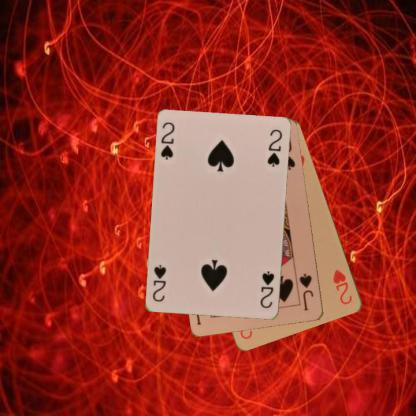2h: (329, 266, 354, 307)
2s: (258, 268, 276, 310), (158, 120, 176, 161)
Js: (297, 271, 315, 312)
